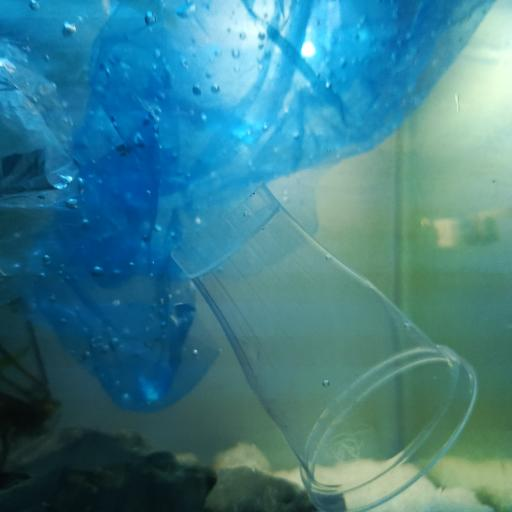plastic_bag: (0, 0, 506, 409)
plastic_cup: (172, 174, 479, 506)
